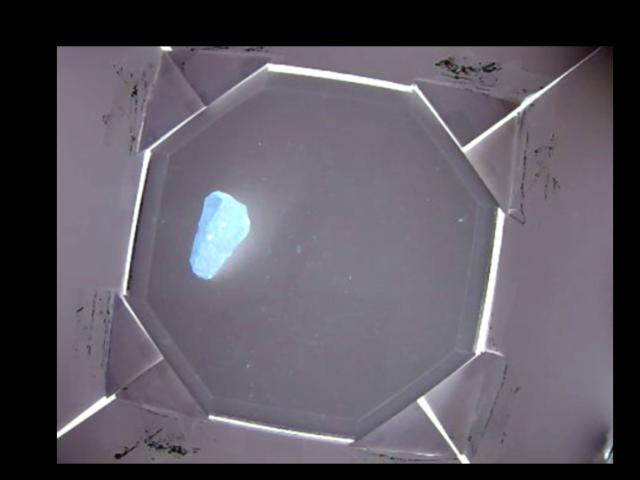Brisk: (187, 189, 251, 281)
